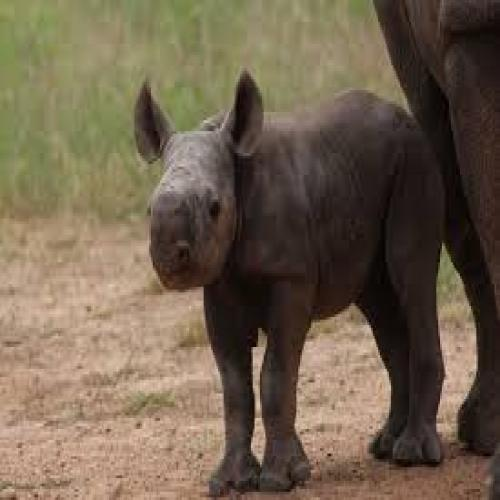rhino-endangered: (133, 0, 500, 489)
